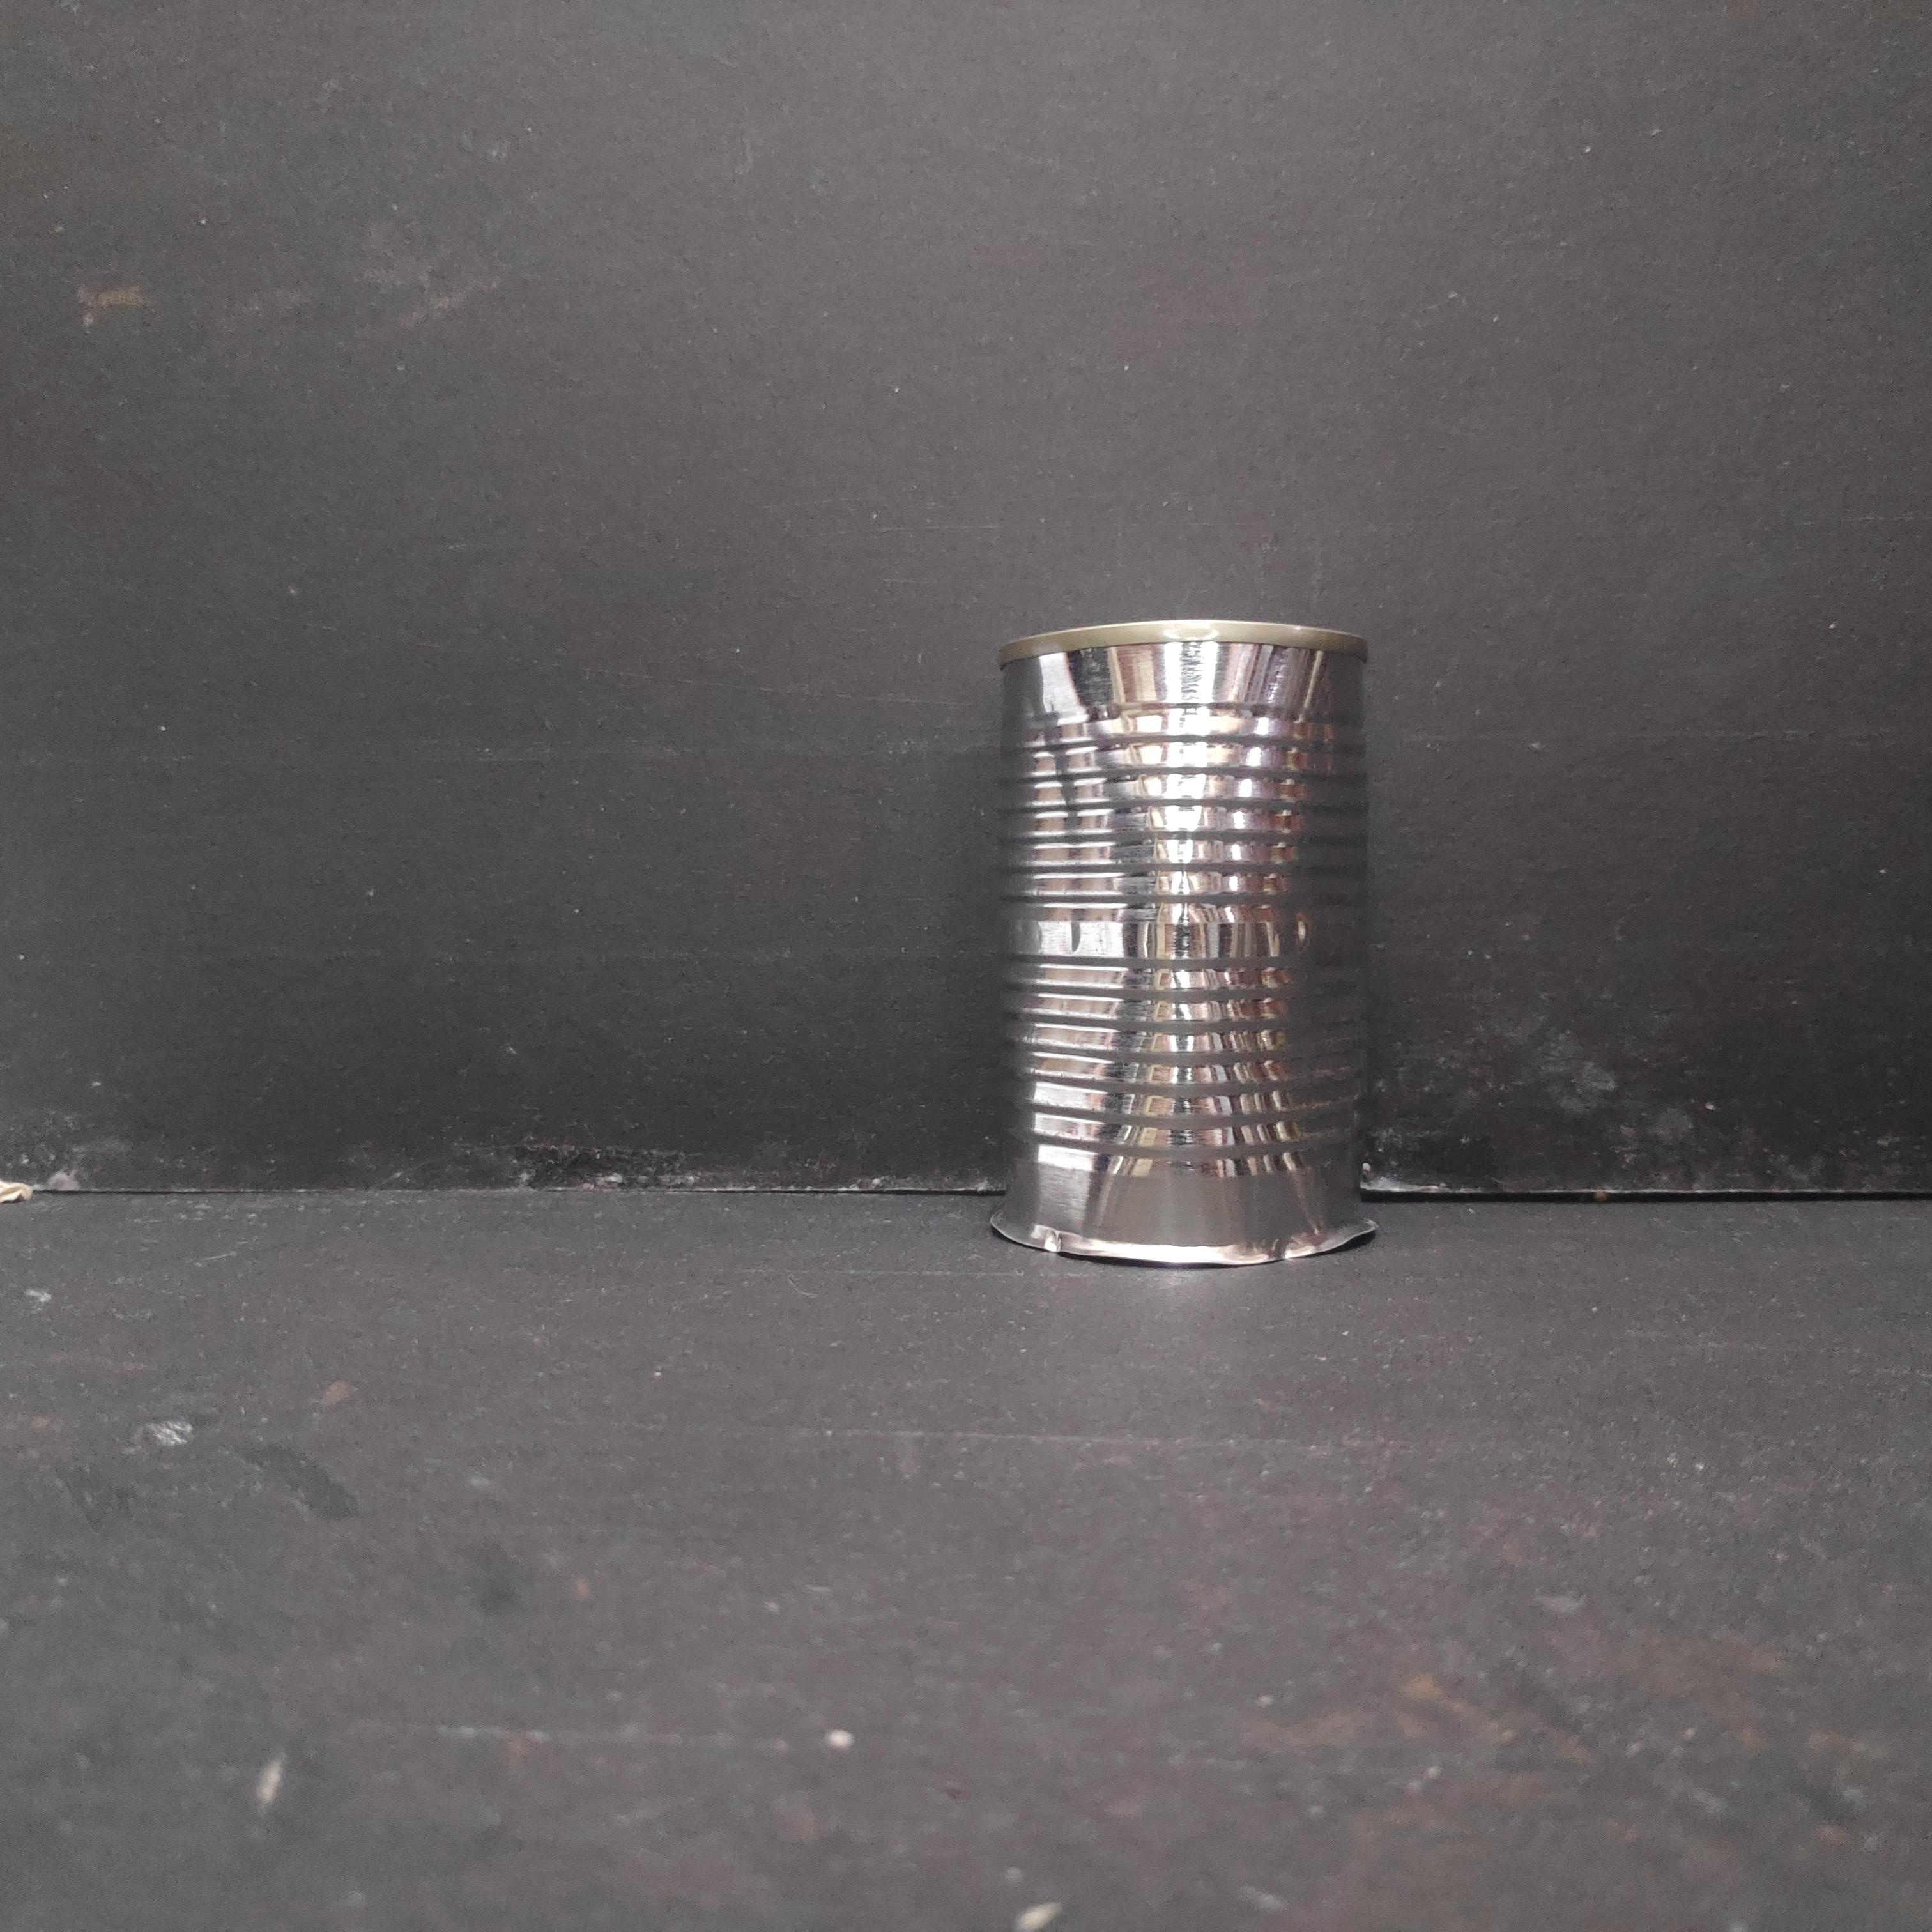Minor Defect: (985, 610, 1399, 1281)
